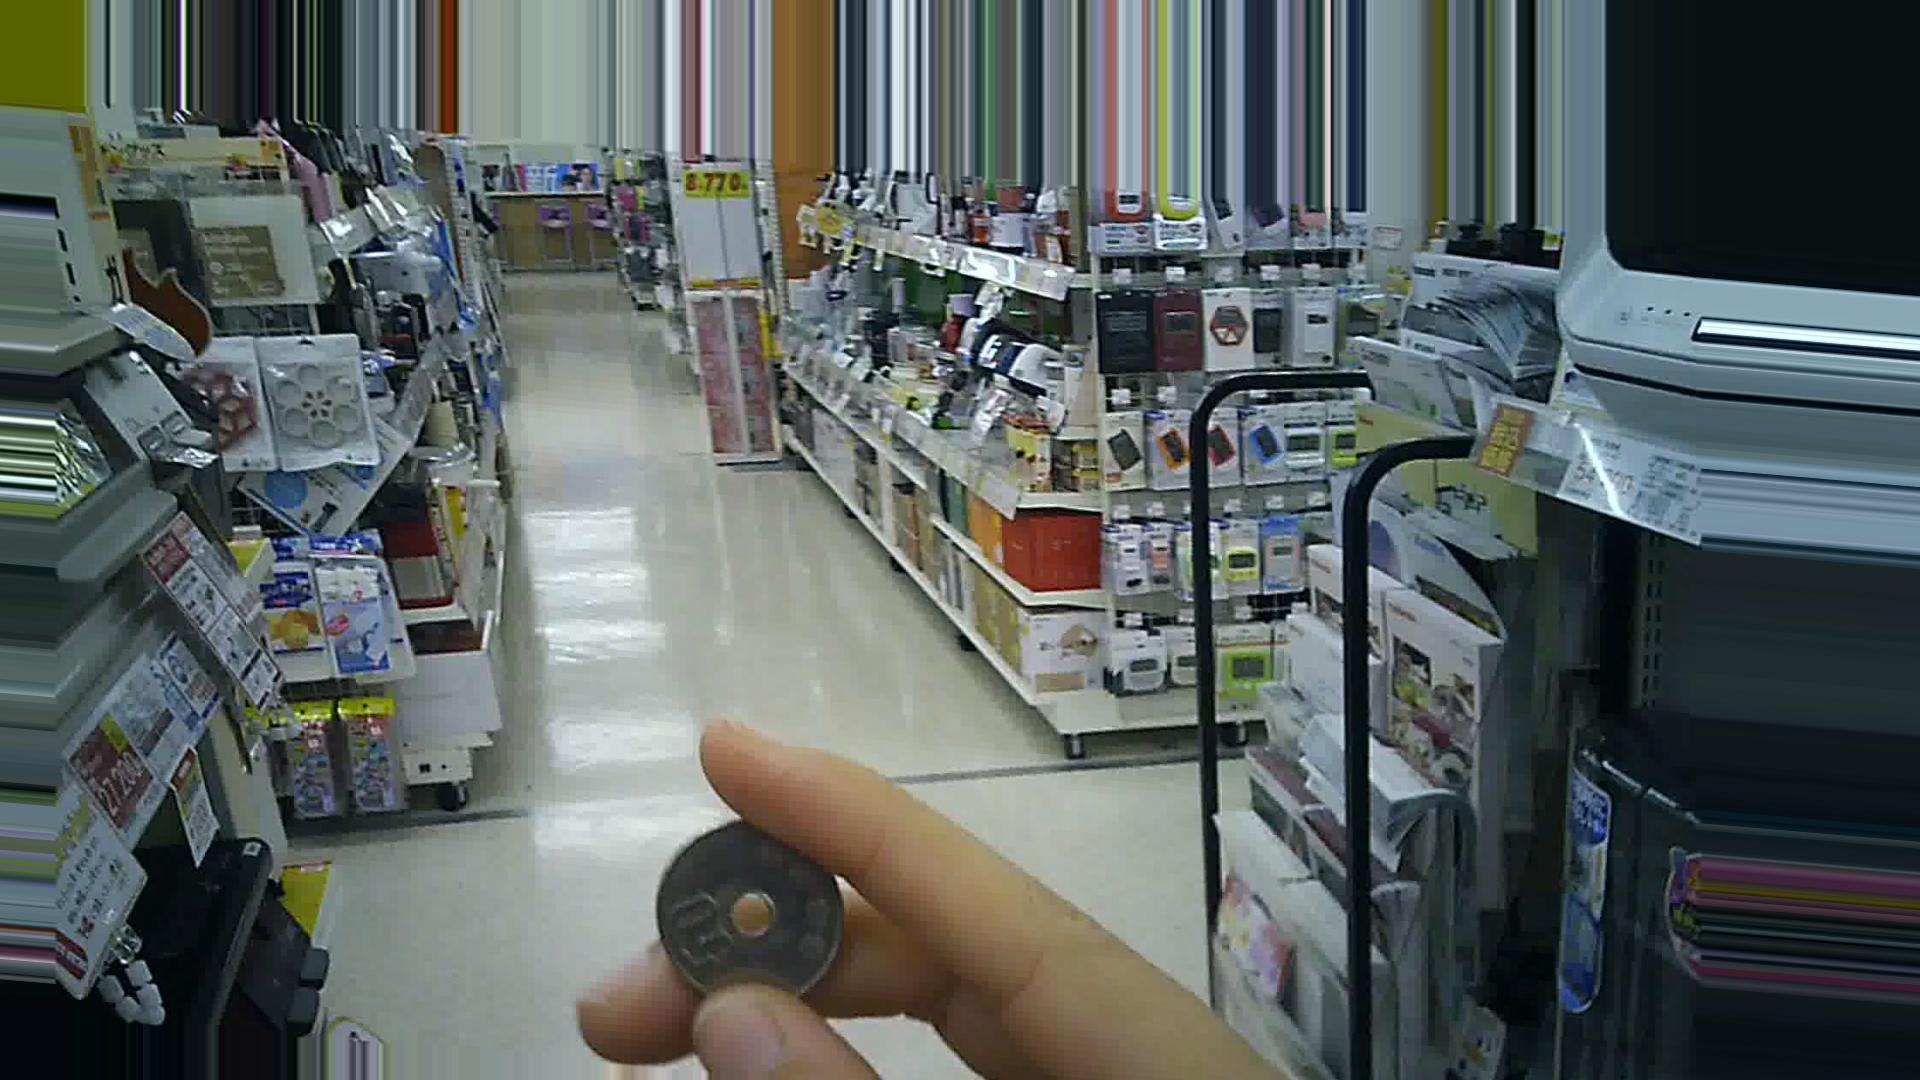50 Yen: (646, 825, 841, 1006)
